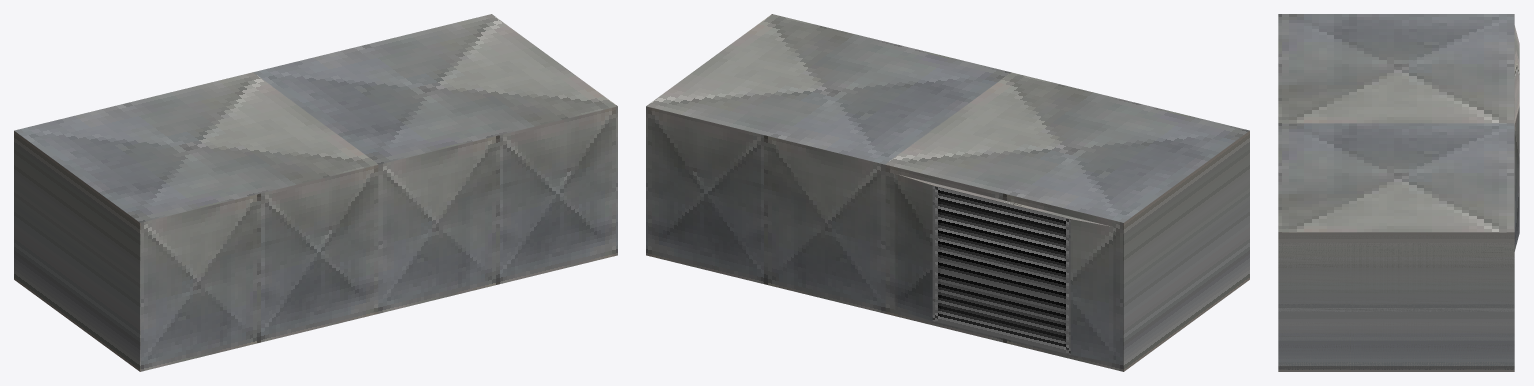
The model's file is vent.glb.
The picture shows the model from 3 angles, left to right: view 1: azimuth 30°, elevation 25°; view 2: azimuth 150°, elevation 25°; view 3: azimuth 270°, elevation 25°; orthographic projection. The views are drawn at different scales.
Visible parts, largest first — view 1: Vent; view 2: Vent; view 3: Vent.
Part boxes in pixels (x1,y1,x2,y2): Vent: (14,14,617,371); Vent: (646,14,1249,371); Vent: (1278,14,1519,371).
Bounding box in the file's own units: 4.96 × 1.48 × 2.31.
Materials: 2 (2 with a texture image).
